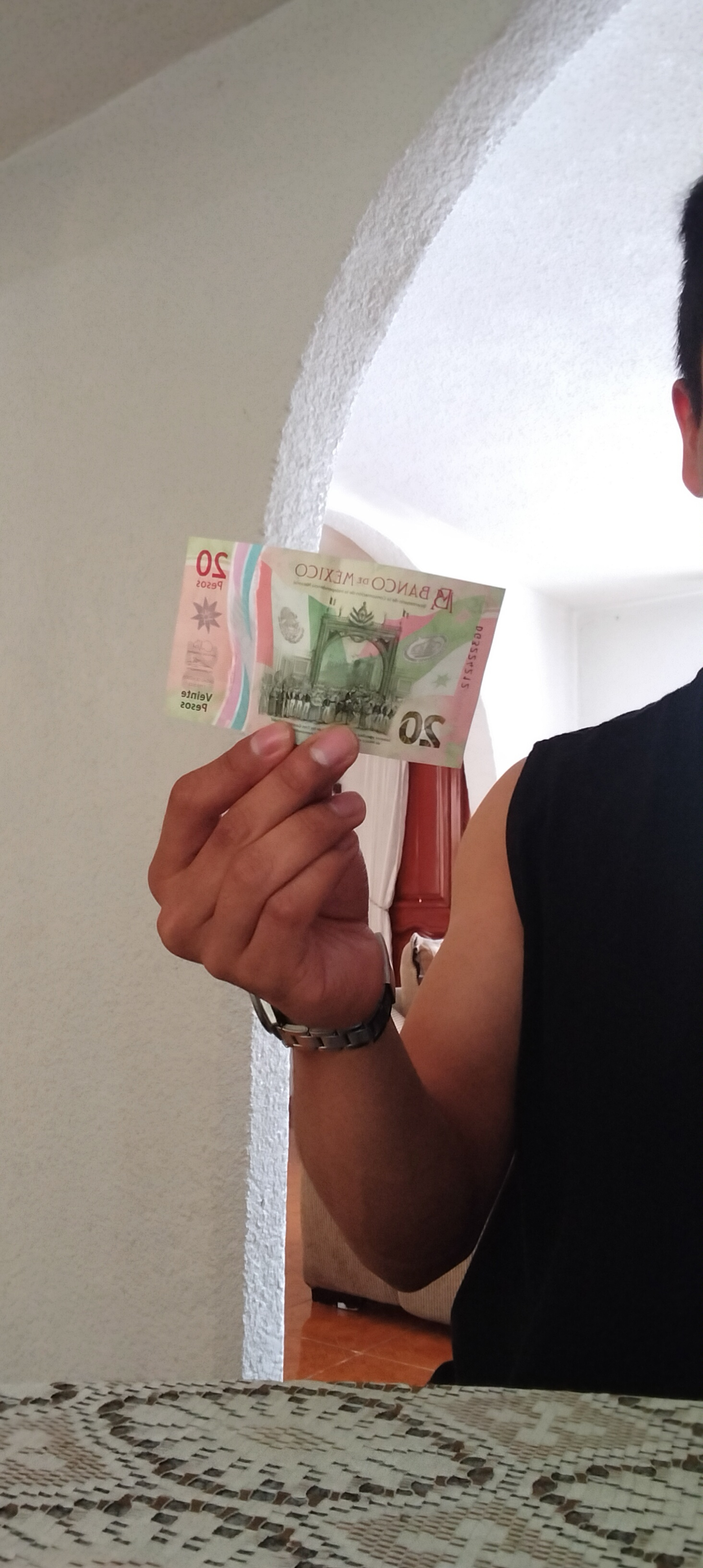billetes: (154, 511, 522, 784)
